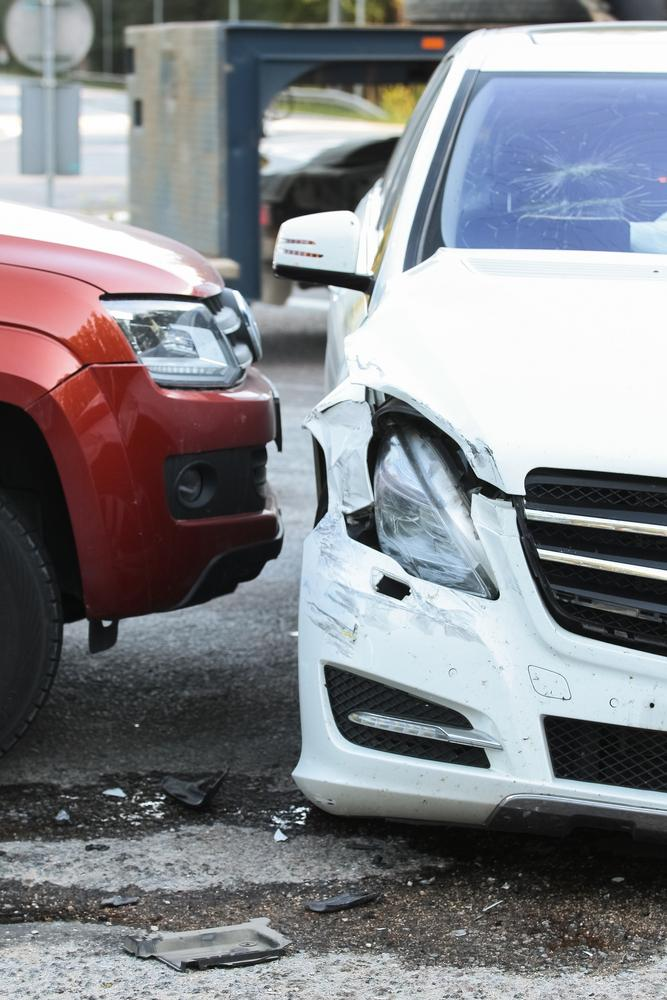dent: (317, 392, 375, 509)
glass shatter: (440, 76, 667, 255)
scratch: (307, 512, 487, 659)
